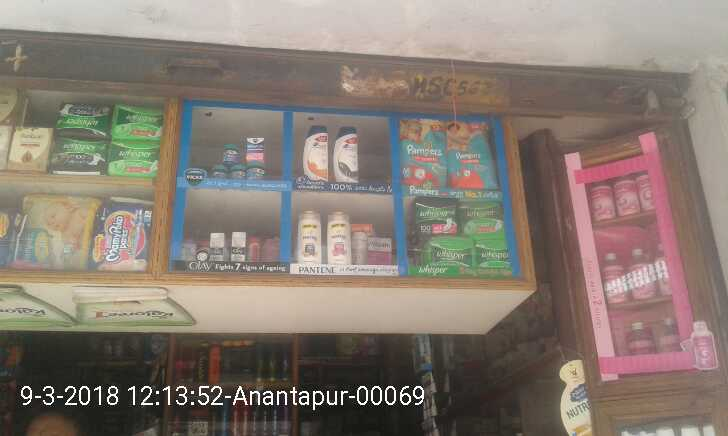vicks: (209, 133, 267, 184)
